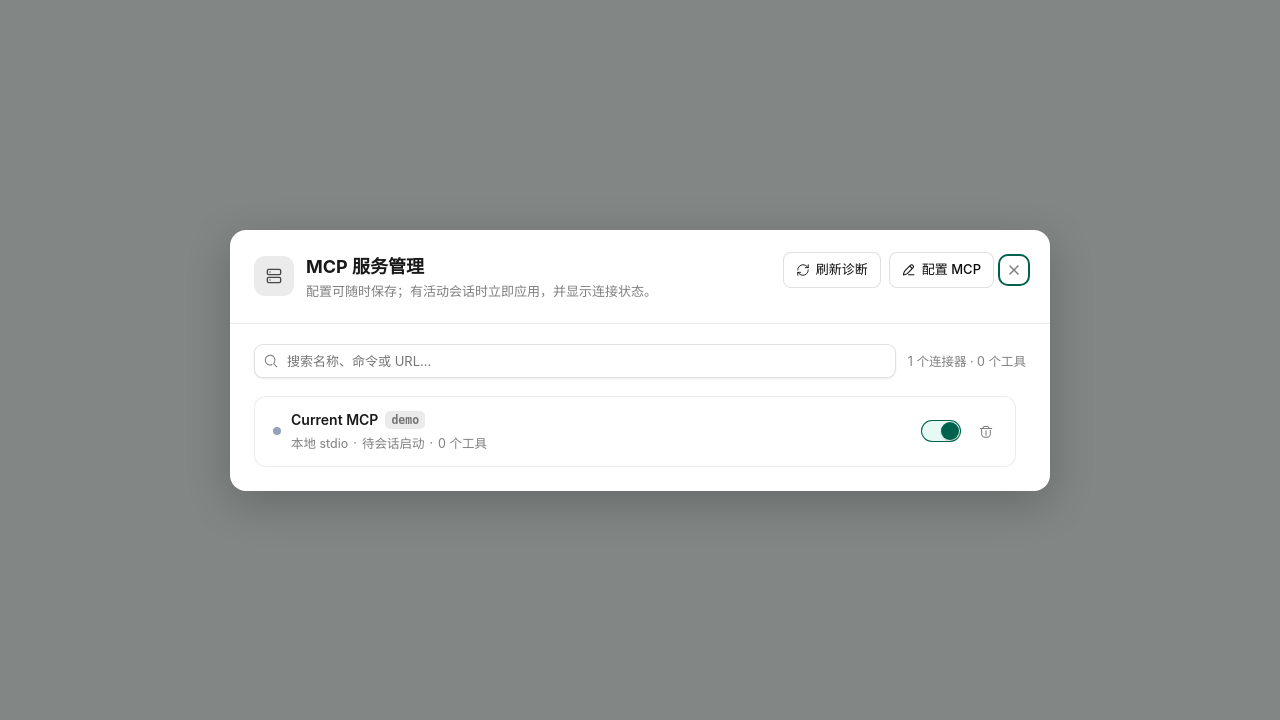
it: MCP 服务管理列表渲染契约 › 只显示活动会话的诊断事件
Click the text "Current MCP".
click(358, 420)  # box [291, 410, 425, 428]
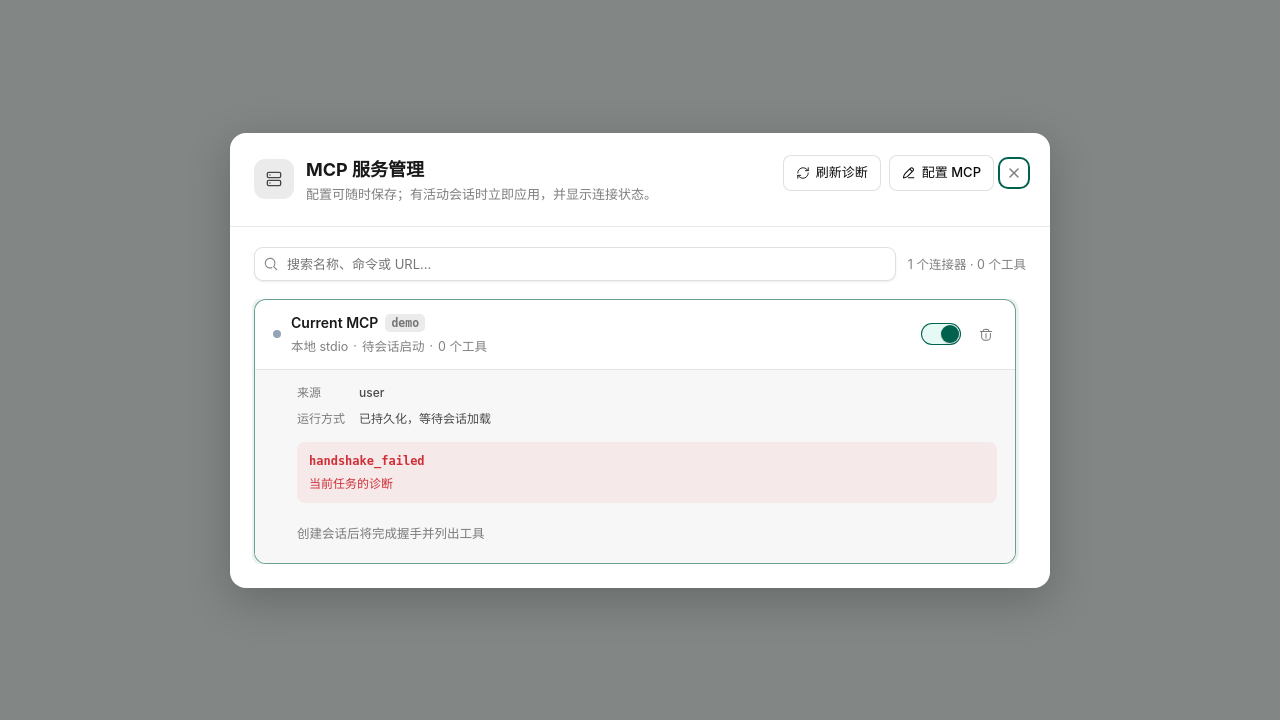
Result: the text "当前任务的诊断" is shown at [309, 476, 393, 490]
